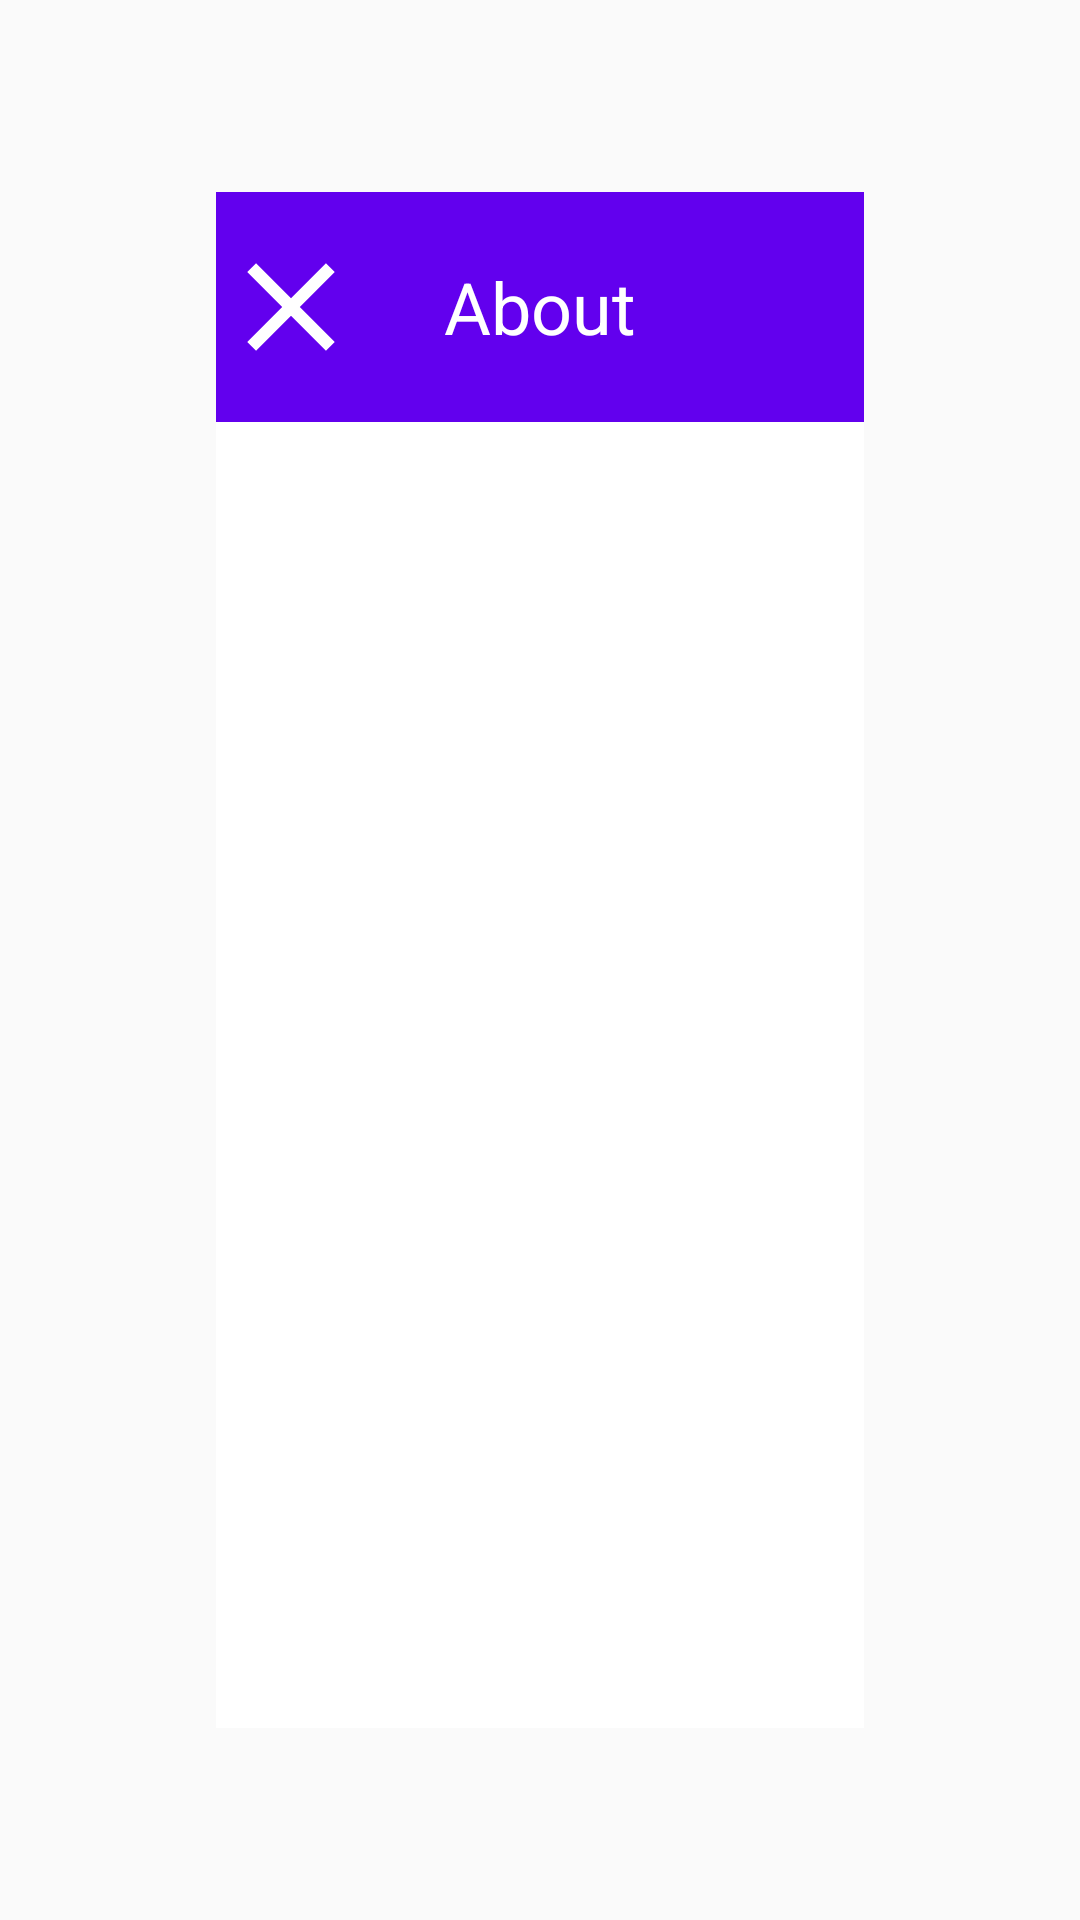

Icon click points for this 1080×1920 phone screenshot, format point (x, y):
clear: point (291, 307)
